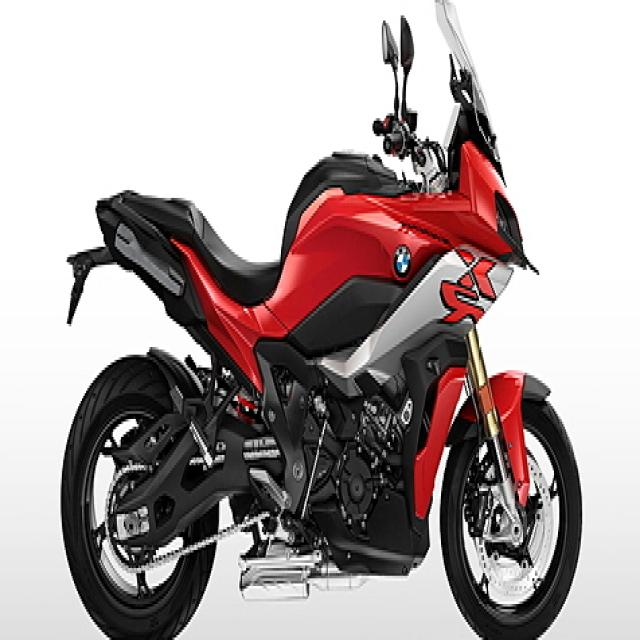bike: (62, 0, 584, 637)
